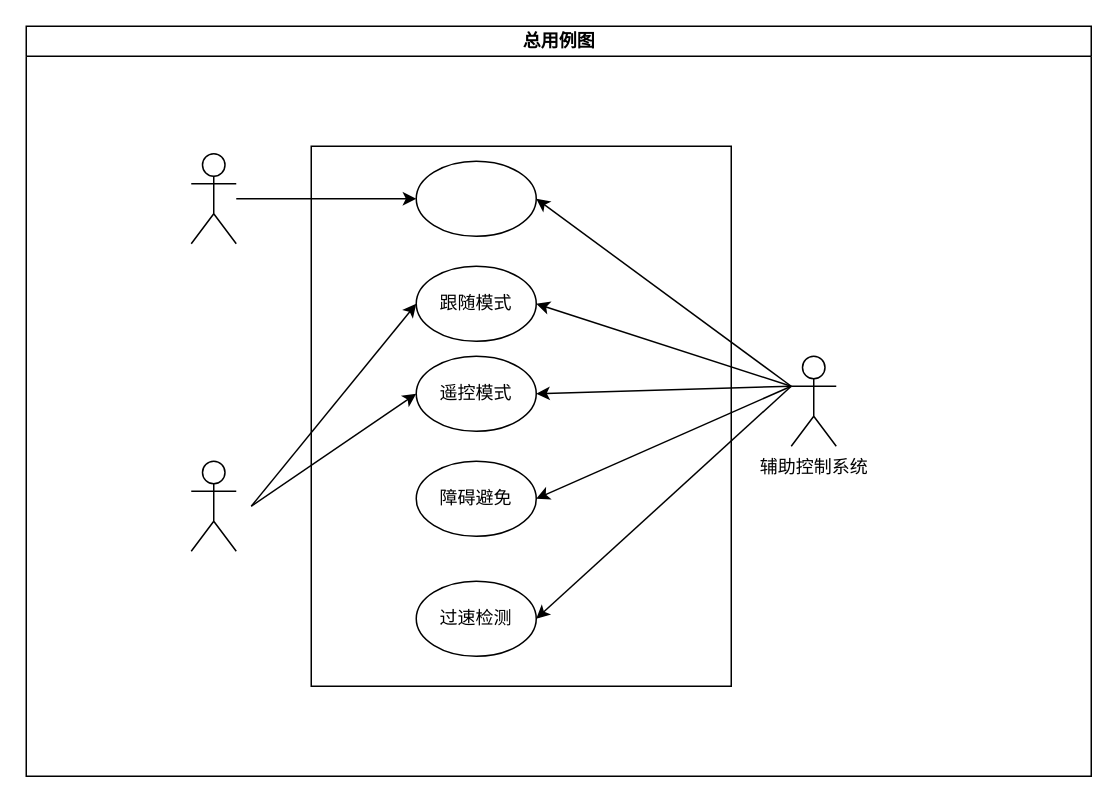
Some shapes in this 1118 by 803 pixel diagram are drawn without their labels. The shapes that lost their labels are listed below. From the top down, each one's box as (x1, y1, x2, y2) in pixels, then its label:
(190, 152, 236, 244): 残疾人用户
(415, 160, 536, 236): 头控模式
(190, 460, 236, 551): 残疾人家属
